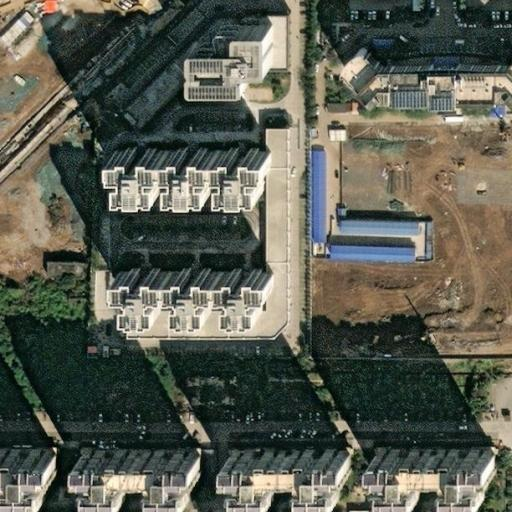building: (125, 17, 294, 136), (338, 47, 512, 107), (337, 216, 512, 268), (115, 152, 269, 197), (116, 270, 269, 315), (85, 451, 206, 501), (381, 455, 502, 505), (233, 452, 354, 501), (267, 130, 292, 326), (202, 27, 276, 88), (306, 145, 327, 242), (392, 55, 496, 67), (44, 258, 87, 278), (373, 0, 401, 8), (323, 18, 334, 32), (474, 10, 481, 22), (404, 0, 412, 10), (484, 11, 490, 21), (318, 0, 327, 4)
